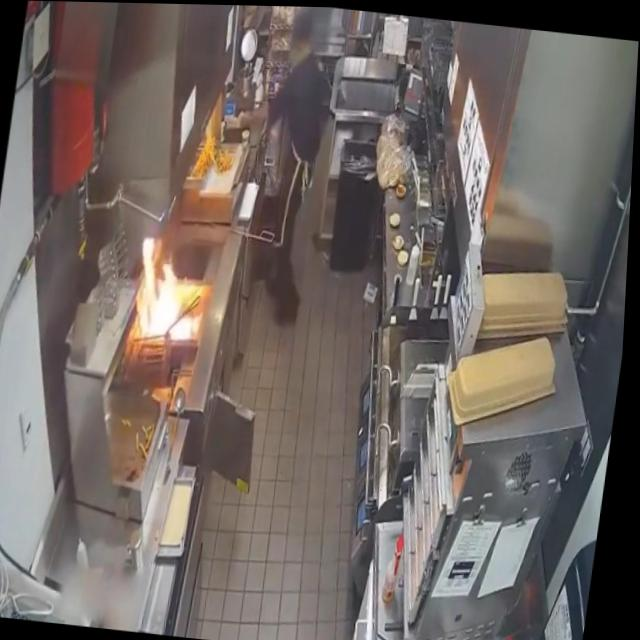fire: (129, 217, 214, 348)
